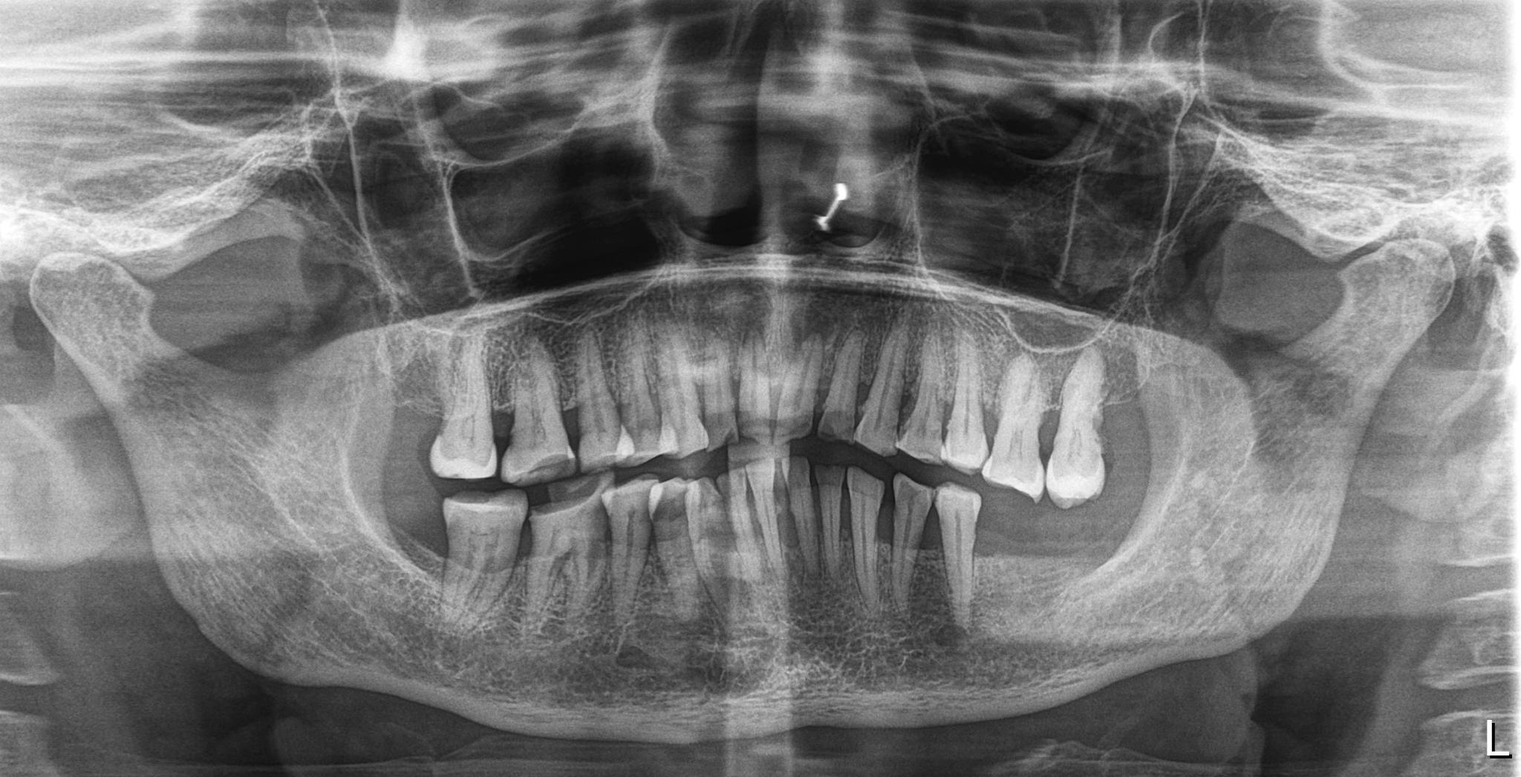Dental Caries: (525, 455, 608, 502), (791, 401, 865, 451)
Missing Tooth: (984, 505, 1130, 638), (375, 468, 451, 622), (388, 319, 454, 448), (1107, 364, 1147, 460)
